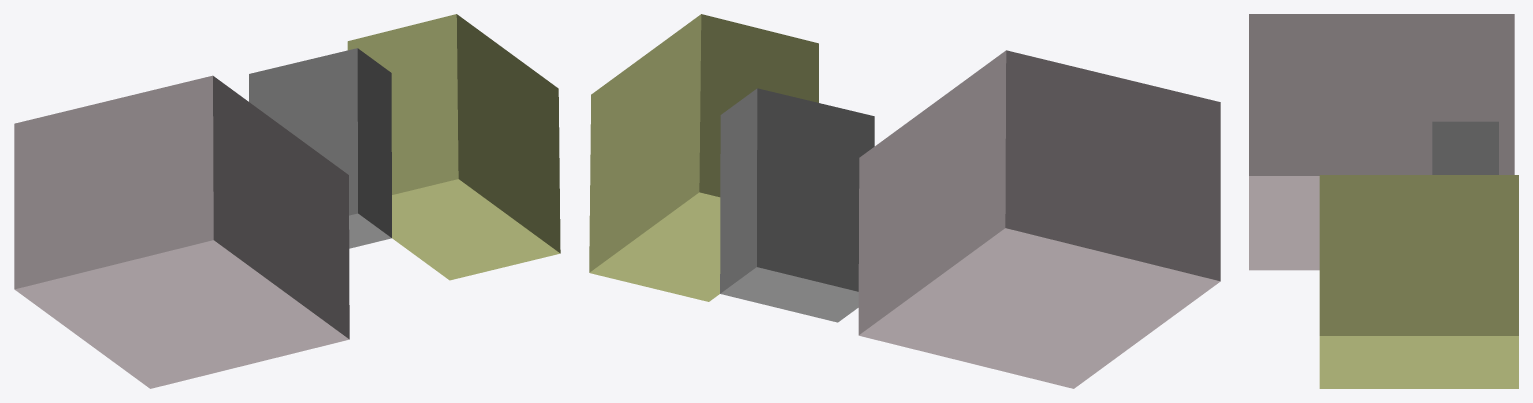
3 views of the same model, side by side, from view 1: azimuth 30°, elevation 25°; view 2: azimuth 150°, elevation 25°; view 3: azimuth 270°, elevation 25° (orthographic). The views are drawn at different scales.
Visible parts, largest first — view 1: 0_2_2_0_0_0_1_2_2; view 2: 0_2_2_0_0_0_1_2_2; view 3: 0_2_2_0_0_0_1_2_2.
Part boxes in pixels (x1,y1,x2,y2): 0_2_2_0_0_0_1_2_2: (14, 14, 560, 388); 0_2_2_0_0_0_1_2_2: (589, 14, 1220, 388); 0_2_2_0_0_0_1_2_2: (1249, 14, 1518, 388).
Size of the model in its own units: 22.75 by 8.1 by 12.19.
